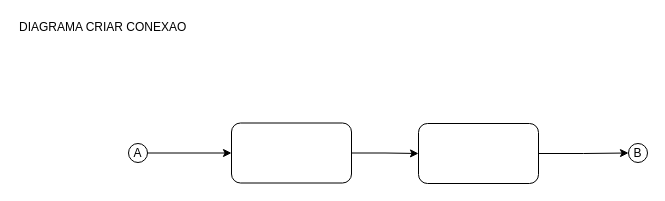
This 665x201 diagram has some shape labels left out. Here are the shapes that lost their labels. From the top down, the centre of each, then its label:
the point at 291,152: BUSCAR PERFIL
the point at 478,153: CLICAR EM CRIAR CONEXAO
